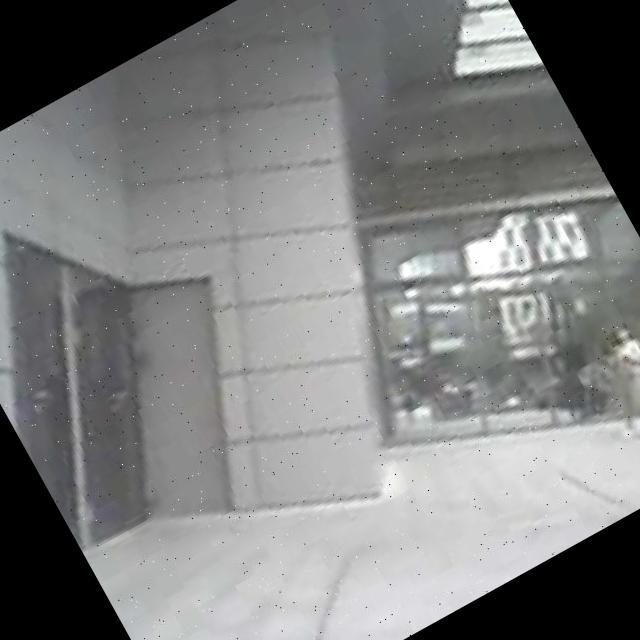person: (582, 318, 640, 438), (615, 307, 640, 431)
